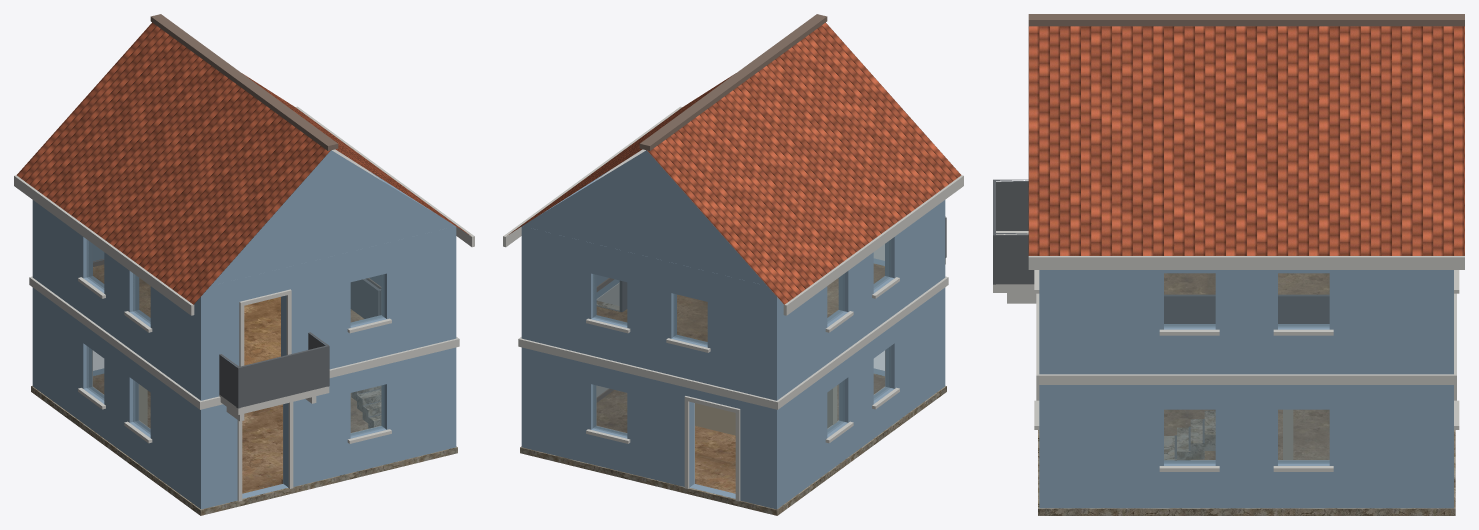
File: cove-house-blue.glass-v3.lod0.glb
The picture shows the model from 3 angles, left to right: view 1: azimuth 30°, elevation 25°; view 2: azimuth 150°, elevation 25°; view 3: azimuth 270°, elevation 25°; orthographic projection. The views are drawn at different scales.
Parts seen in each view (by area): view 1: cove-house-blue; view 2: cove-house-blue; view 3: cove-house-blue.
Boxes of the visible parts, x1,y1,x2,y2 form: cove-house-blue: (14,14,474,515); cove-house-blue: (503,14,963,515); cove-house-blue: (993,14,1464,515).
Size of the model in its own units: 7.78 by 8.99 by 9.12.
5 materials, 3 textured.
